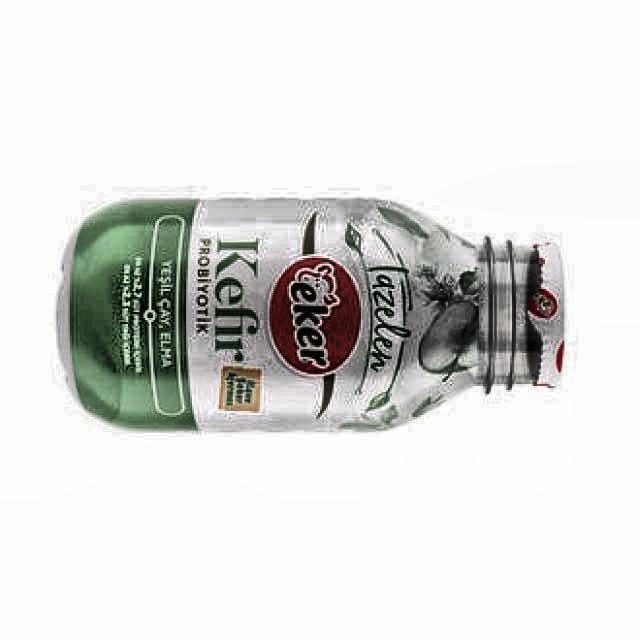plastic: (58, 199, 563, 429)
